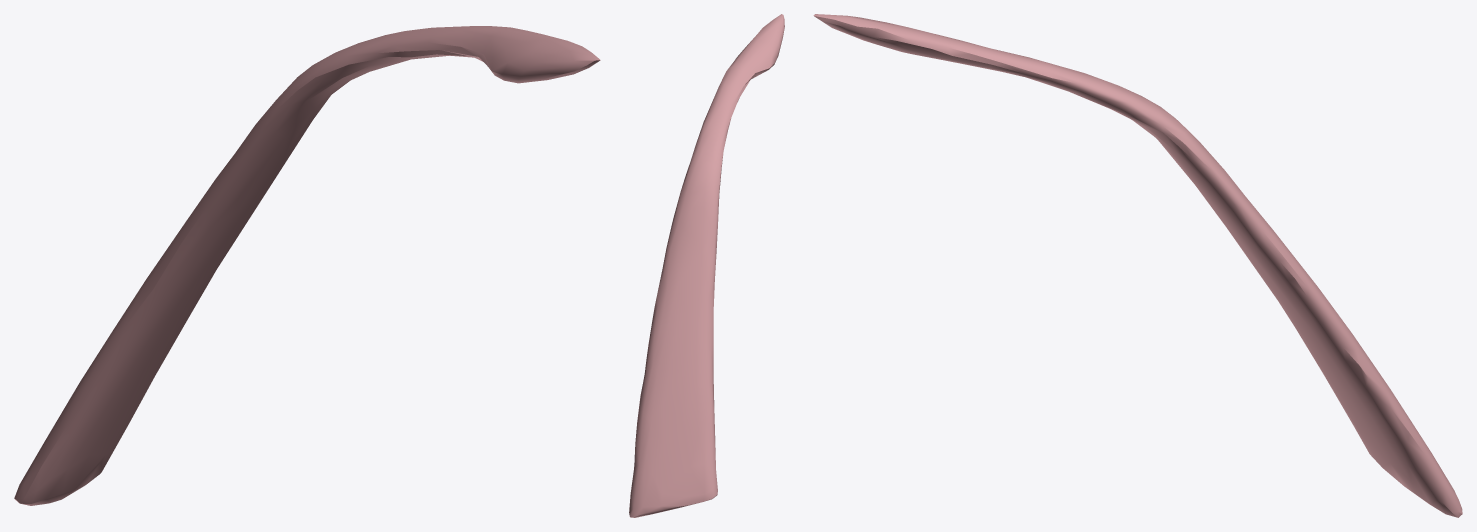
File: fma9277_mm467.glb
The picture shows the model from 3 angles, left to right: view 1: azimuth 30°, elevation 25°; view 2: azimuth 150°, elevation 25°; view 3: azimuth 270°, elevation 25°; orthographic projection. The views are drawn at different scales.
Visible parts, largest first — view 1: FMA9277_MM467; view 2: FMA9277_MM467; view 3: FMA9277_MM467.
Boxes of the visible parts, x1,y1,x2,y2 form: FMA9277_MM467: [14, 26, 600, 505]; FMA9277_MM467: [629, 14, 784, 517]; FMA9277_MM467: [813, 14, 1462, 517].
Size of the model in its own units: 0.0045 by 0.0122 by 0.0132.
